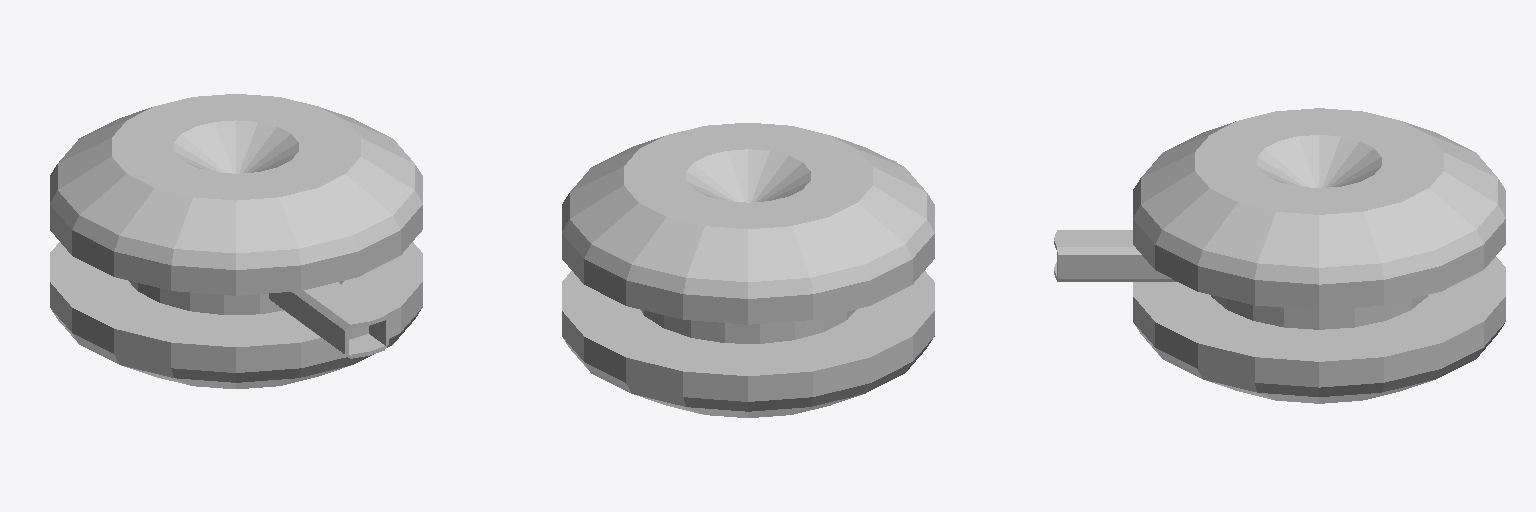
The model's file is EnemySingleShotMark3.obj.
The picture shows the model from 3 angles: view 1: azimuth 30°, elevation 25°; view 2: azimuth 150°, elevation 25°; view 3: azimuth 270°, elevation 25°; orthographic projection.
Visible parts, largest first — view 1: Enemy_Ship_Hull, Enemy_Ship_Turret; view 2: Enemy_Ship_Hull, Enemy_Ship_Turret; view 3: Enemy_Ship_Hull, Enemy_Ship_Turret.
Part boxes in pixels (x1,y1,x2,y2): Enemy_Ship_Hull: (50,94,422,388); Enemy_Ship_Turret: (129,281,388,358); Enemy_Ship_Hull: (562,123,934,417); Enemy_Ship_Turret: (640,159,896,343); Enemy_Ship_Hull: (1133,108,1505,403); Enemy_Ship_Turret: (1054,230,1427,329).
Size of the model in its own units: 0.8631 by 0.4744 by 1.03.